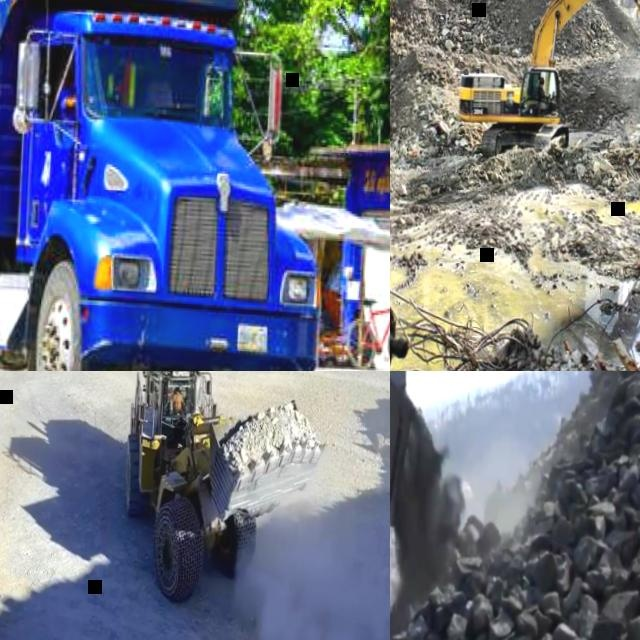NO-Hardhat: (539, 76, 544, 83), (174, 388, 179, 394)
NO-Safety Vest: (173, 396, 182, 411)
Person: (169, 388, 187, 412), (537, 74, 549, 99)
machinery: (0, 0, 342, 371), (111, 371, 334, 612), (452, 0, 640, 173), (390, 371, 453, 640)
